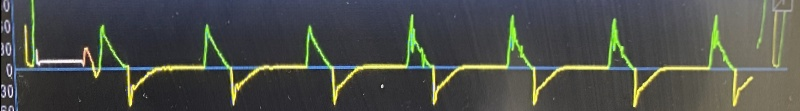hydrop_flow: (396, 8, 755, 111)
normal_flow: (116, 13, 390, 111)
